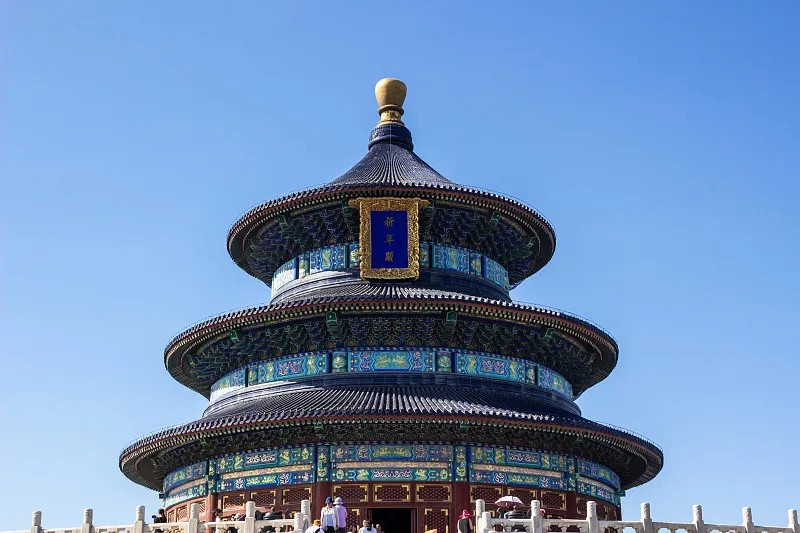Heaven: (119, 77, 665, 533)
